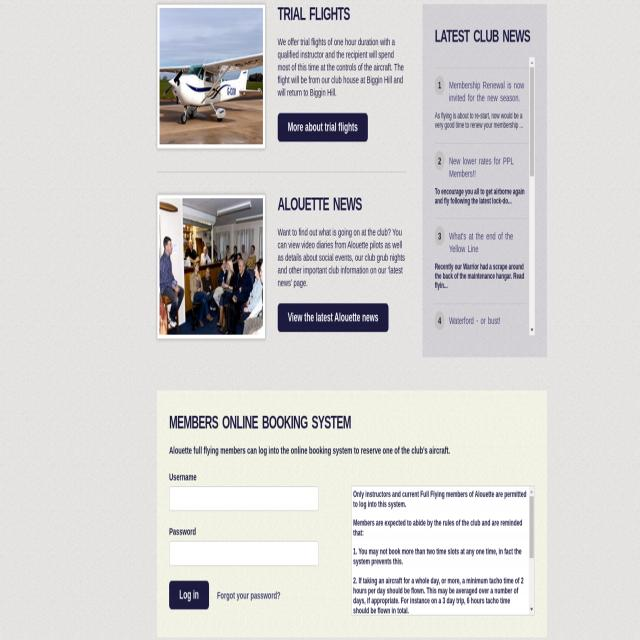button: (157, 194, 265, 339), (157, 4, 265, 149), (277, 303, 388, 332), (278, 114, 368, 142), (169, 580, 209, 610), (530, 67, 534, 176), (529, 496, 534, 559), (529, 604, 535, 615), (529, 325, 535, 335), (529, 486, 535, 496), (530, 58, 534, 67)
field: (169, 486, 319, 511), (169, 541, 319, 566)
